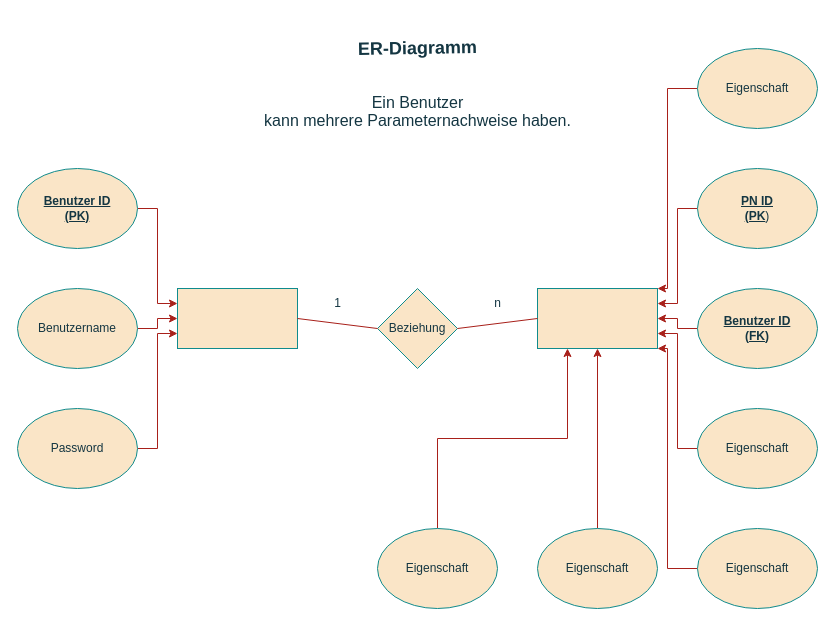
This 835x626 diagram has some shape labels left out. The shapes that lost their labels are listed below. From the top down, each one's box as (x1, y1, x2, y2) in pixels, then its label:
(176, 288, 298, 348): Benutzer
(536, 288, 658, 348): Gesundheitsdaten
